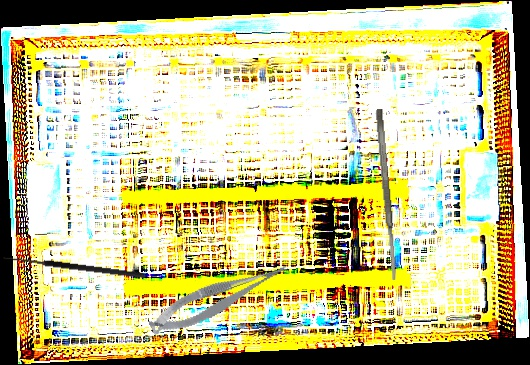Hook Surgical: (1, 254, 146, 286)
Micro Scissor: (143, 258, 296, 340)
Spatula Surgical: (374, 108, 399, 281)
